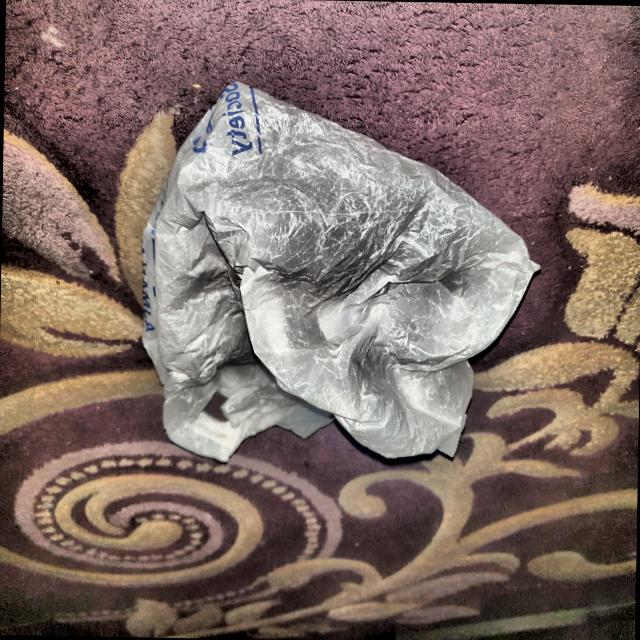plastic bag: (132, 72, 549, 476)
